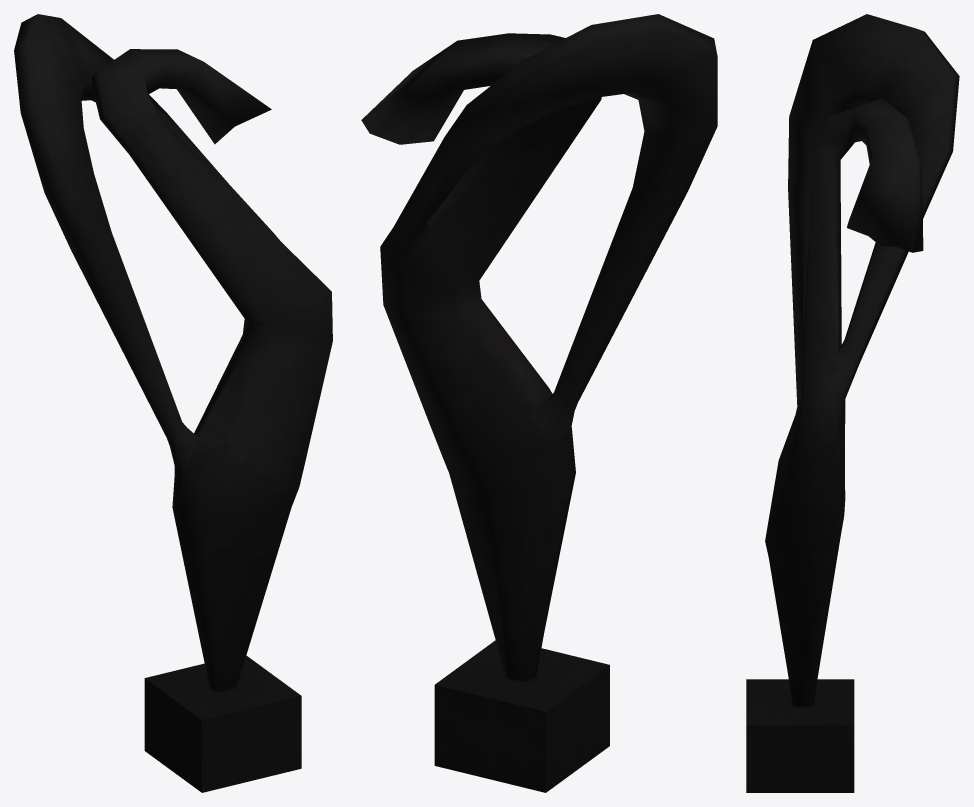
Rendered from dub_decorative_metal_statue2_lod0.glb.
3 renders of one model, left to right at view 1: azimuth 30°, elevation 25°; view 2: azimuth 150°, elevation 25°; view 3: azimuth 270°, elevation 25°, orthographic. The views are drawn at different scales.
Parts seen in each view (by area): view 1: surf0; view 2: surf0; view 3: surf0.
Part boxes in pixels (left/top/right/bottom): surf0: left=14, top=14, right=332, bottom=792; surf0: left=361, top=14, right=717, bottom=792; surf0: left=746, top=14, right=959, bottom=792.
Bounding box in the file's own units: 14.8 × 34.59 × 9.75.
